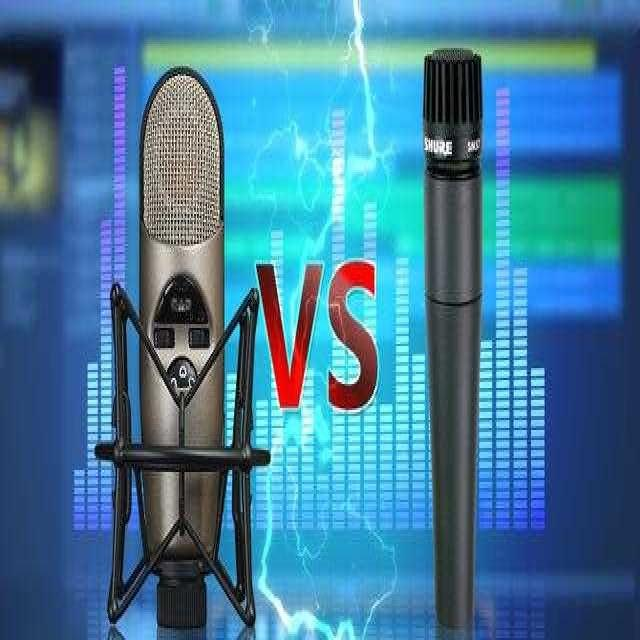microphone: (138, 67, 224, 614), (421, 47, 485, 632)
